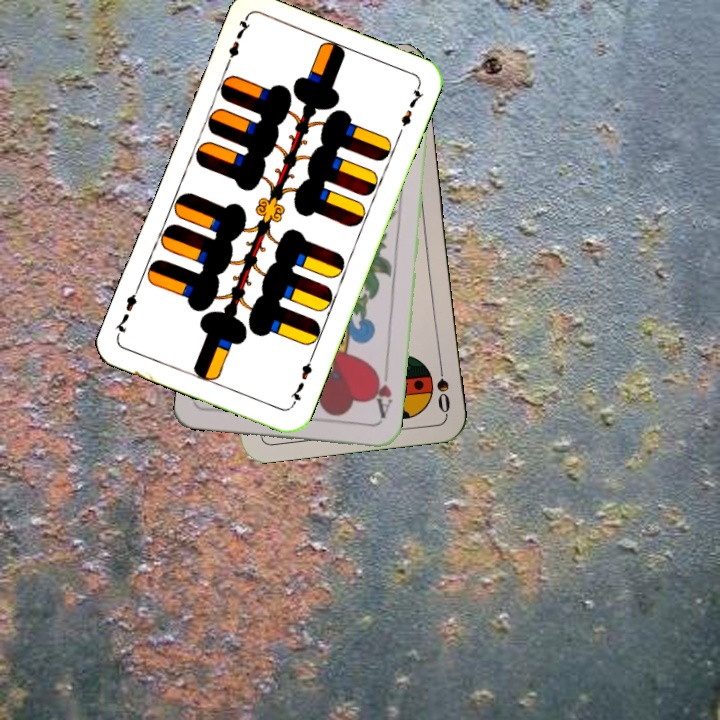E7: (221, 14, 253, 71), (286, 352, 316, 409)
HA: (369, 365, 395, 424)
SO: (432, 357, 453, 416)
